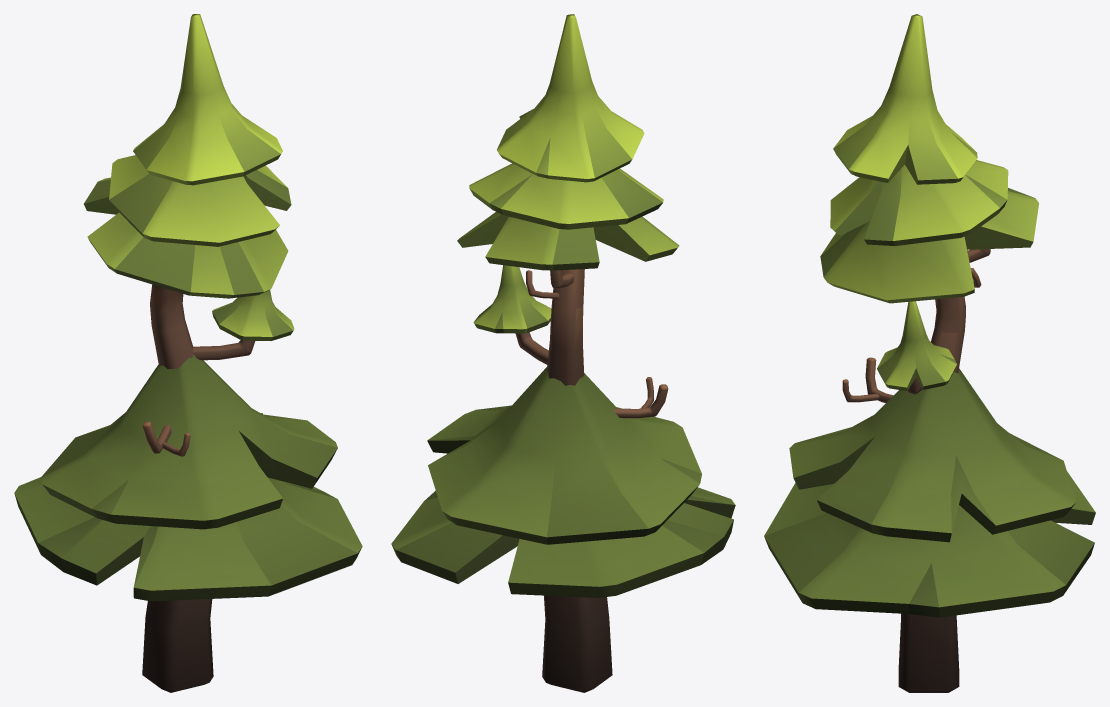
File: pine_tree_col1_05.fbx
3 renders of one model, left to right at view 1: azimuth 30°, elevation 25°; view 2: azimuth 150°, elevation 25°; view 3: azimuth 270°, elevation 25°, orthographic. The views are drawn at different scales.
Parts seen in each view (by area): view 1: tree_pine_col1_05; view 2: tree_pine_col1_05; view 3: tree_pine_col1_05.
Boxes of the visible parts, x1,y1,x2,y2 form: tree_pine_col1_05: [14, 14, 362, 692]; tree_pine_col1_05: [391, 14, 735, 692]; tree_pine_col1_05: [764, 14, 1095, 692].
Bounding box in the file's own units: 465 × 1043 × 465.
1 material, 1 textured.
